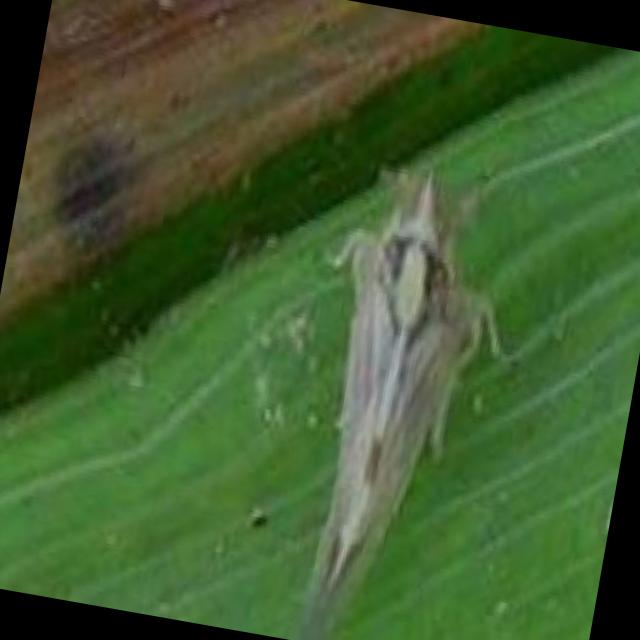brown-planthopper: (298, 162, 510, 632)
